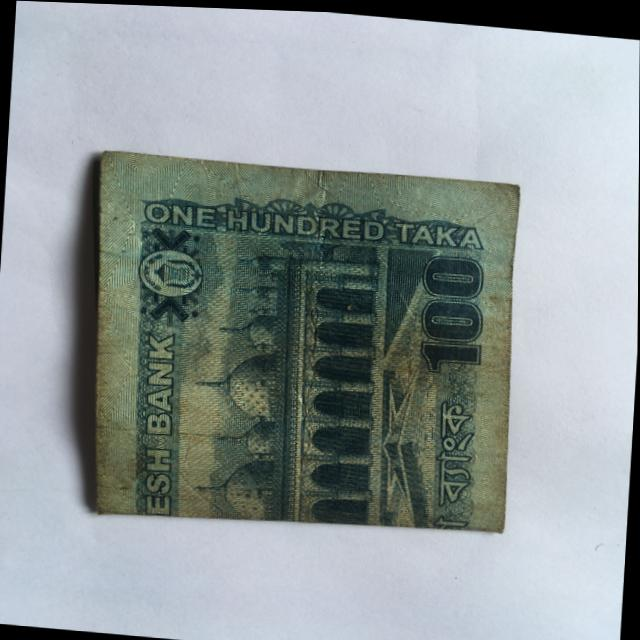Taka: (77, 135, 542, 542)
